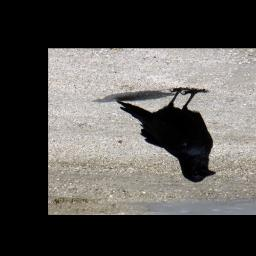Crow: (114, 87, 219, 184)
